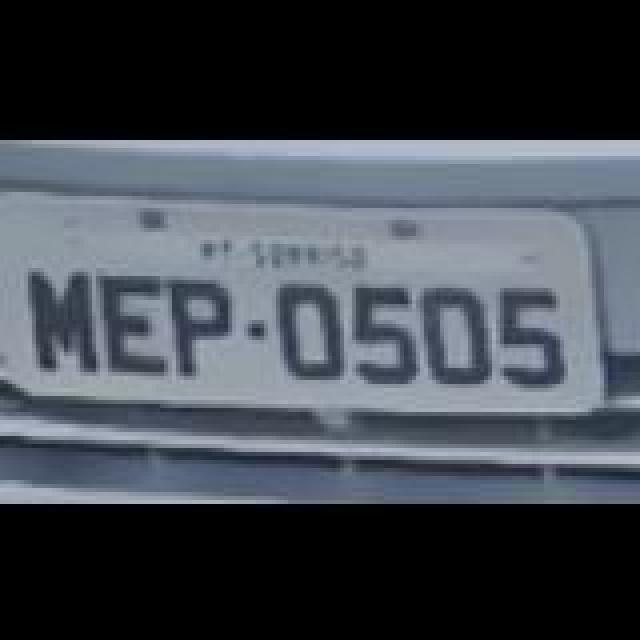5: (352, 280, 424, 384), (500, 284, 572, 388)
D: (418, 284, 494, 388), (274, 282, 350, 382)
E: (98, 268, 174, 372)
M: (24, 264, 104, 376)
P: (166, 274, 242, 374)
